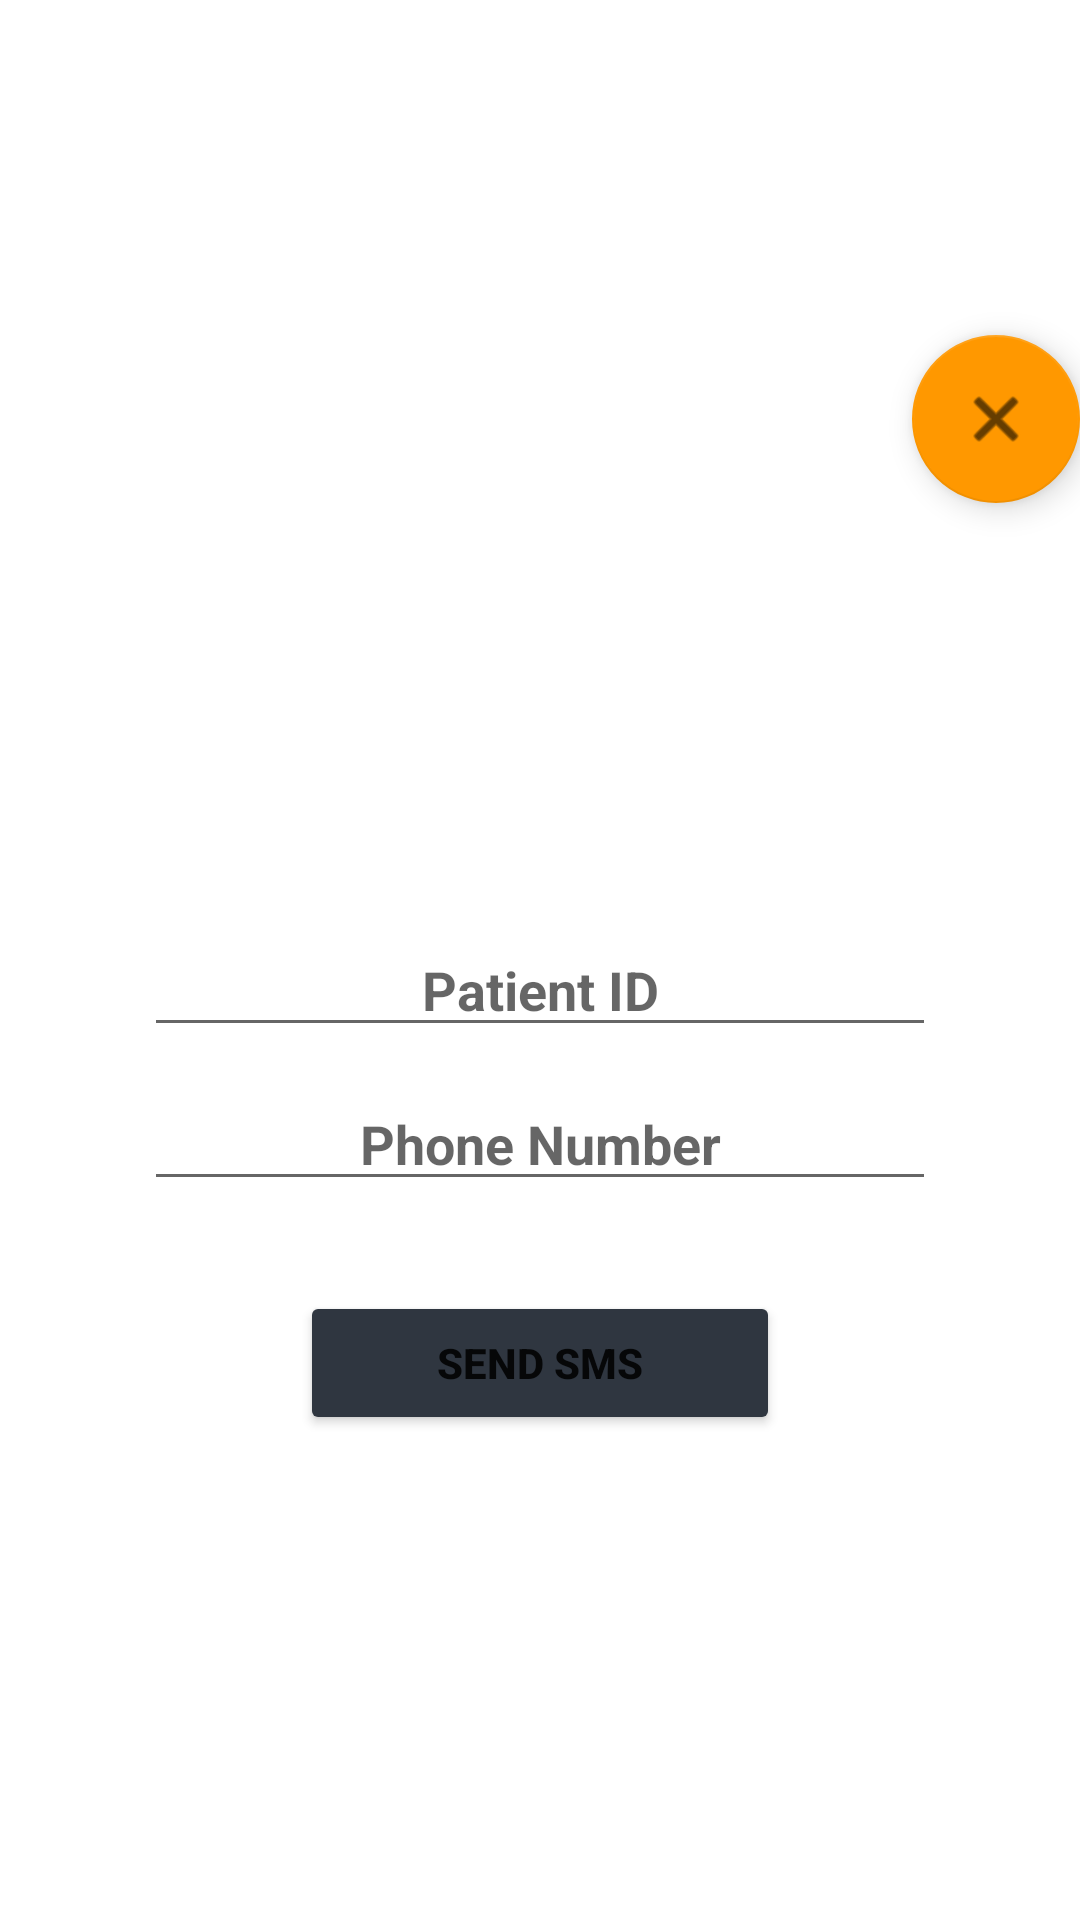

Screen size 1080x1920. Icon name, then its center in pixels as (x=x, y=y):
close clear cancel: (x=996, y=419)
